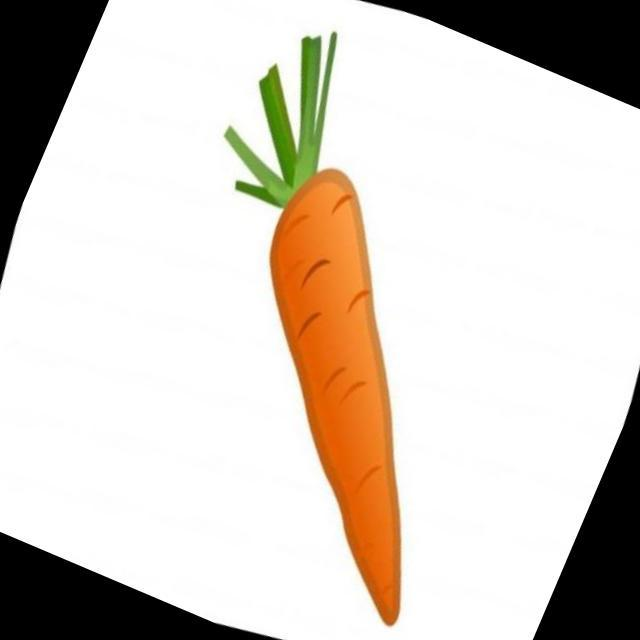carrot: (57, 19, 624, 640)
